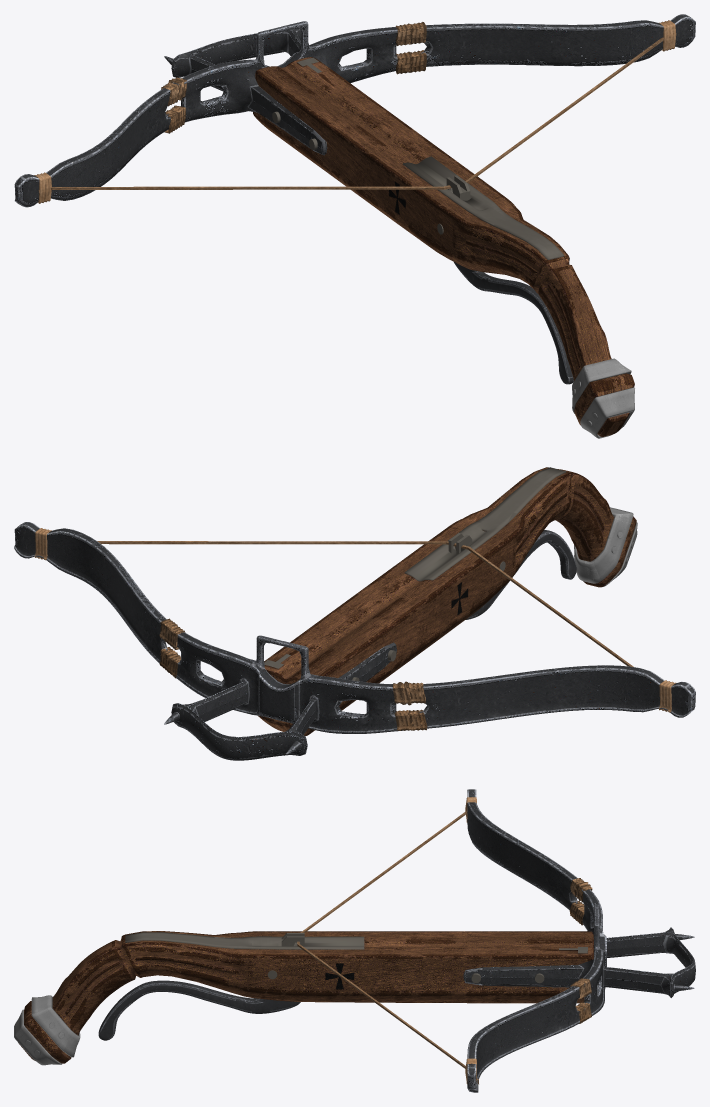
The model's file is Crossbow.fbx.
The picture shows the model from 3 angles, top to bottom: view 1: azimuth 30°, elevation 25°; view 2: azimuth 150°, elevation 25°; view 3: azimuth 270°, elevation 25°; orthographic projection. The views are drawn at different scales.
Visible parts, largest first — view 1: crossbow_body; view 2: crossbow_body; view 3: crossbow_body.
Boxes of the visible parts, left/top/right/bottom form: crossbow_body: left=14, top=14, right=695, bottom=438; crossbow_body: left=14, top=467, right=695, bottom=760; crossbow_body: left=14, top=789, right=695, bottom=1092.
Bounding box in the file's own units: 89.88 × 21.99 × 91.05.
